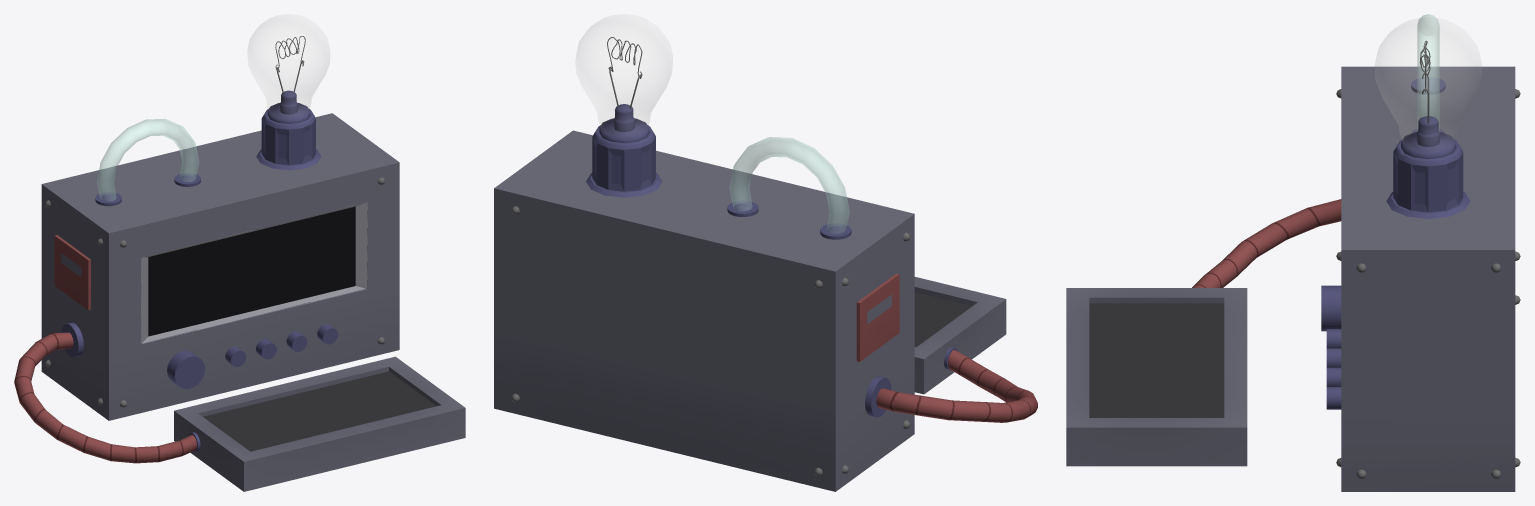
The model's file is detector.fbx.
3 renders of one model, left to right at view 1: azimuth 30°, elevation 25°; view 2: azimuth 150°, elevation 25°; view 3: azimuth 270°, elevation 25°, orthographic. The views are drawn at different scales.
Parts seen in each view (by area): view 1: Detector_Main_001, Detector_Main_002, Detector_LightBulb_001, Detector_Tube_002, Detector_Tube_001, Detector_LightBulb_002, Detector_Knob_001, Detector_Decoration_001, Detector_Footing_001; view 2: Detector_Main_001, Detector_LightBulb_001, Detector_Main_002, Detector_Tube_002, Detector_Tube_001, Detector_LightBulb_002, Detector_Decoration_001, Detector_Footing_001, Detector_Footing_005; view 3: Detector_Main_001, Detector_Main_002, Detector_LightBulb_001, Detector_LightBulb_002, Detector_Tube_002, Detector_Knob_001, Detector_Tube_001, Detector_Footing_005, Detector_Ironnail, Detector_LightBulb_003, Detector_Footing_001.
Part boxes in pixels (bbox=[...]): Detector_Main_001: bbox=[41, 113, 399, 420]; Detector_Main_002: bbox=[174, 356, 465, 491]; Detector_LightBulb_001: bbox=[248, 14, 329, 110]; Detector_Tube_002: bbox=[14, 332, 196, 463]; Detector_Tube_001: bbox=[97, 119, 199, 201]; Detector_LightBulb_002: bbox=[261, 103, 315, 165]; Detector_Knob_001: bbox=[167, 324, 338, 388]; Detector_Decoration_001: bbox=[54, 235, 90, 310]; Detector_Footing_001: bbox=[61, 173, 200, 451]; Detector_Main_001: bbox=[494, 130, 914, 491]; Detector_LightBulb_001: bbox=[576, 14, 672, 127]; Detector_Main_002: bbox=[914, 277, 1006, 394]; Detector_Tube_002: bbox=[876, 349, 1037, 422]; Detector_Tube_001: bbox=[729, 137, 849, 233]; Detector_LightBulb_002: bbox=[592, 118, 655, 191]; Detector_Decoration_001: bbox=[856, 273, 899, 361]; Detector_Footing_001: bbox=[727, 200, 957, 417]; Detector_Footing_005: bbox=[586, 172, 662, 197]; Detector_Main_001: bbox=[1341, 66, 1515, 491]; Detector_Main_002: bbox=[1066, 288, 1247, 466]; Detector_LightBulb_001: bbox=[1375, 17, 1481, 141]; Detector_LightBulb_002: bbox=[1393, 132, 1463, 212]; Detector_Tube_002: bbox=[1192, 199, 1341, 287]; Detector_Knob_001: bbox=[1321, 285, 1341, 409]; Detector_Tube_001: bbox=[1417, 14, 1439, 130]; Detector_Footing_005: bbox=[1386, 191, 1470, 218]; Detector_Ironnail: bbox=[1336, 89, 1520, 478]; Detector_LightBulb_003: bbox=[1416, 116, 1439, 146]; Detector_Footing_001: bbox=[1411, 77, 1445, 133].
Bounding box in the file's own units: 19.6 × 16.06 × 15.68.
Materials: 10 (9 with a texture image).
